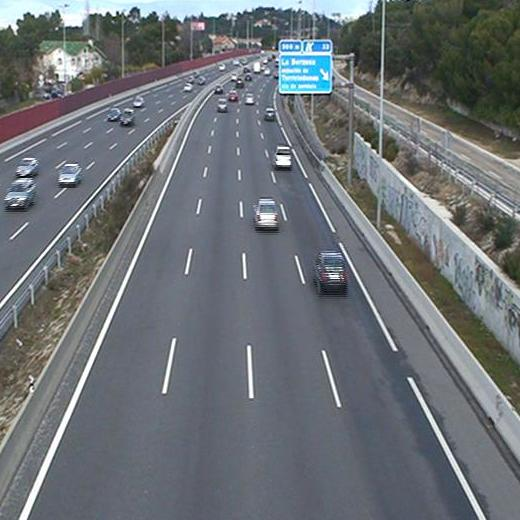car: (310, 248, 352, 299), (248, 195, 284, 235), (269, 142, 297, 173), (261, 106, 277, 122), (216, 98, 229, 114)
